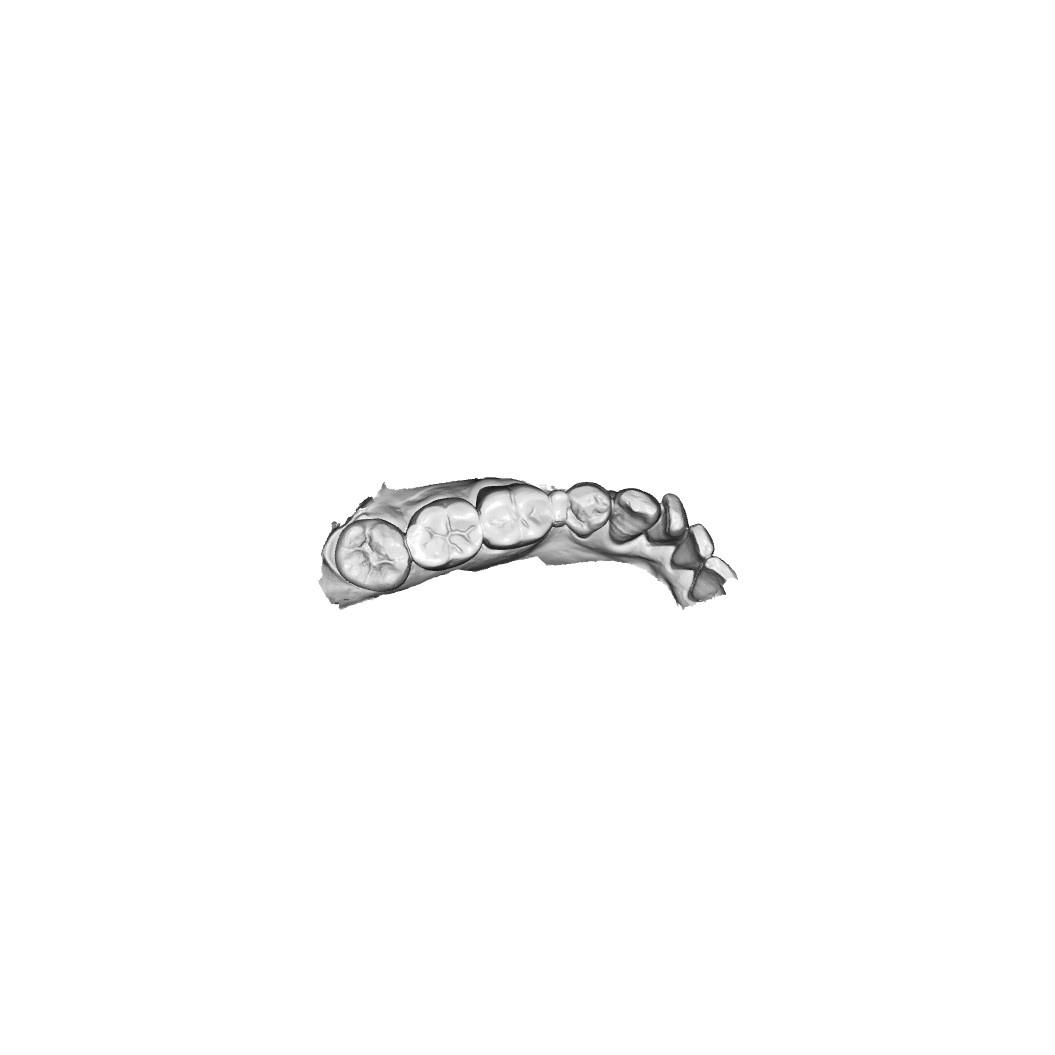canine: (614, 491, 656, 546)
incisor: (684, 553, 739, 610), (668, 523, 714, 575), (650, 492, 686, 546)
molar: (340, 519, 416, 585), (404, 498, 477, 564), (479, 482, 550, 549)
premolar: (563, 479, 609, 540)
